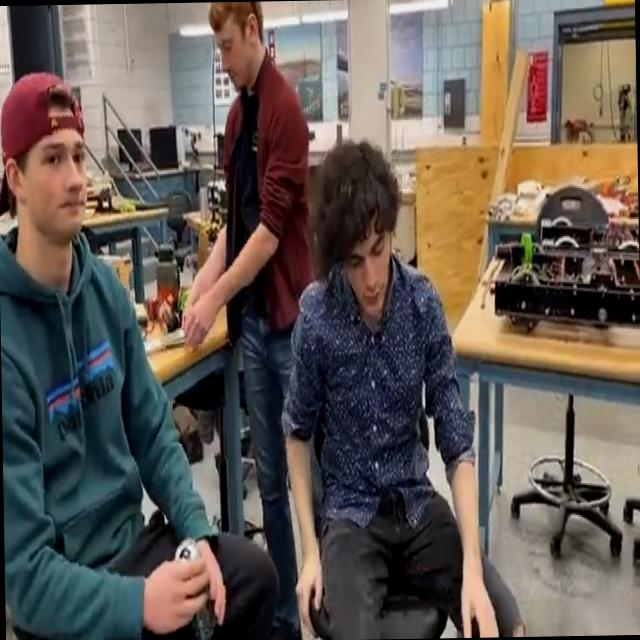note: (488, 179, 640, 338), (491, 227, 639, 336), (0, 67, 88, 167), (523, 46, 552, 126)
